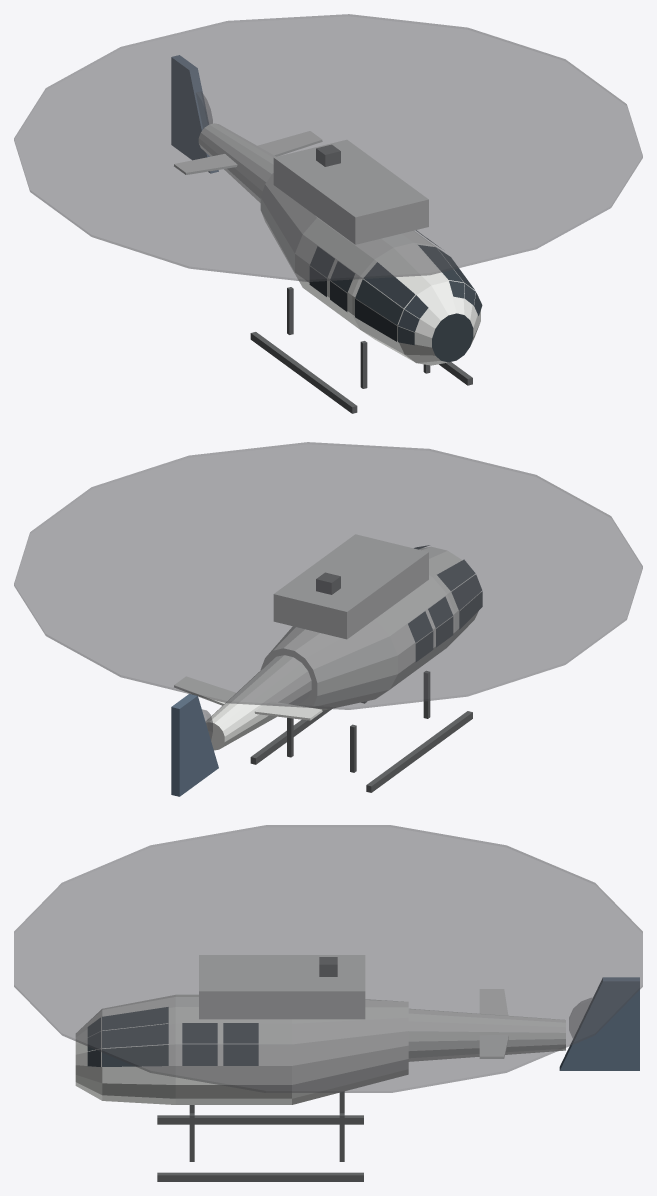
The model's file is aircraft-helicopter.glb.
The picture shows the model from 3 angles, top to bottom: view 1: azimuth 30°, elevation 25°; view 2: azimuth 150°, elevation 25°; view 3: azimuth 270°, elevation 25°; orthographic projection.
Parts seen in each view (by area): view 1: aircraft-helicopter; view 2: aircraft-helicopter; view 3: aircraft-helicopter.
Boxes of the visible parts, x1,y1,x2,y2 form: aircraft-helicopter: (14,14,642,413); aircraft-helicopter: (14,442,642,796); aircraft-helicopter: (14,825,642,1181).
Bounding box in the file's own units: 10.2 × 3.47 × 10.2.
